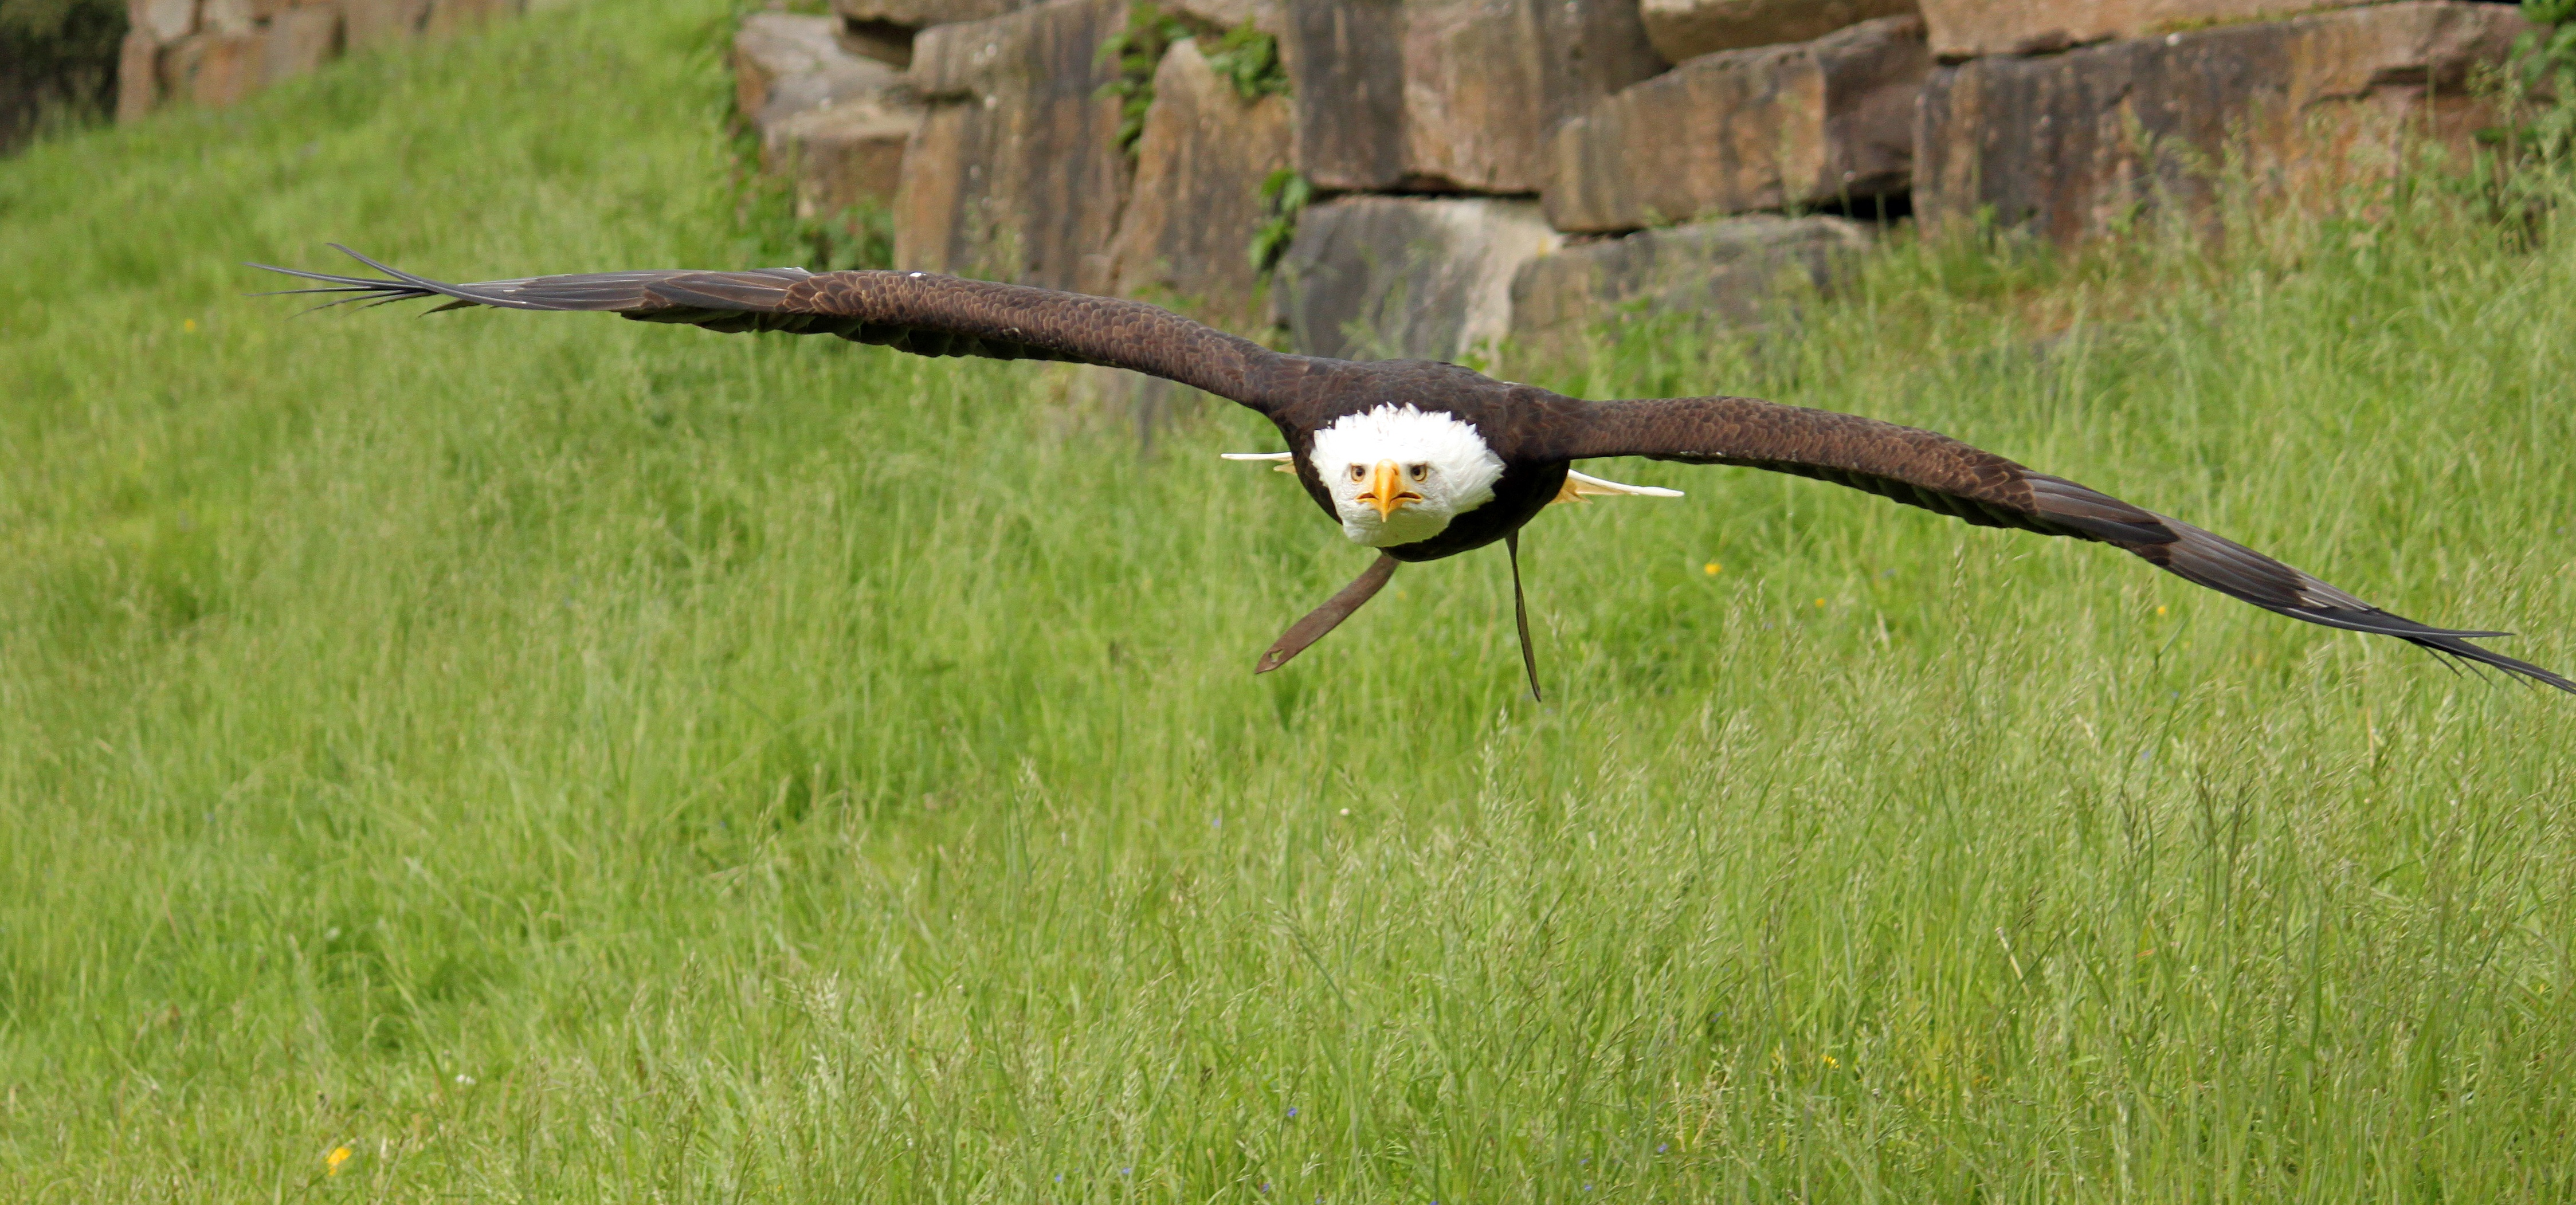bird: (241, 212, 2576, 722)
